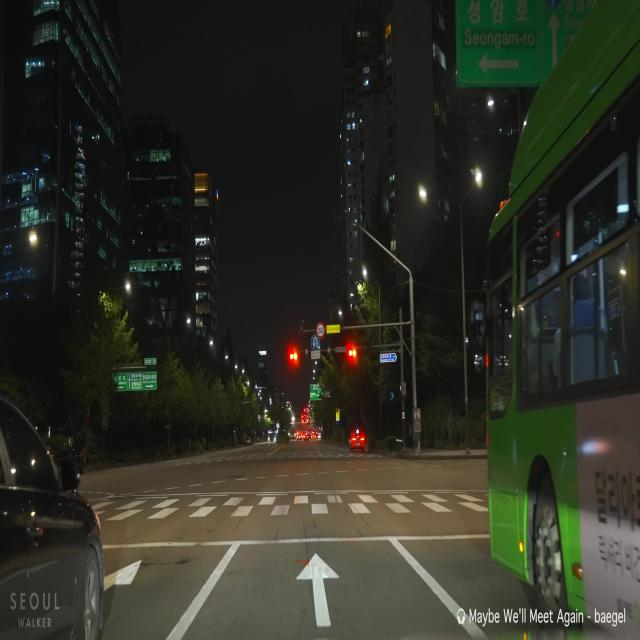Red Light: (289, 352, 293, 360)
Yellow Light: (352, 349, 357, 356), (294, 353, 298, 361)
